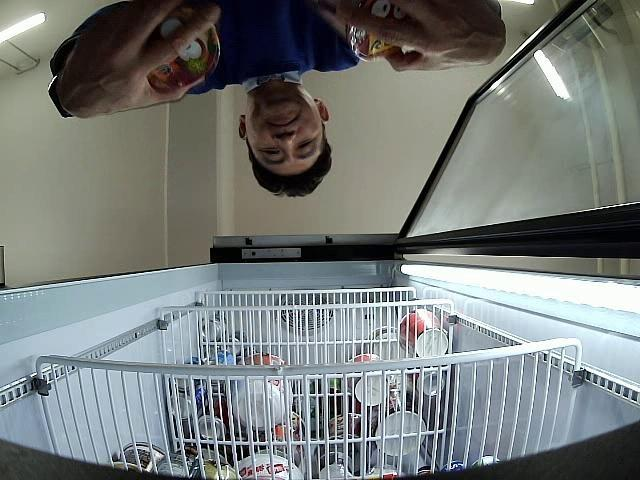06_nuguri_S: (144, 12, 220, 93), (322, 0, 413, 61)
